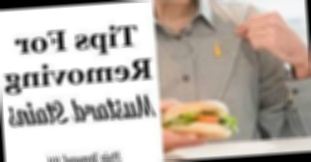mustard: (209, 40, 224, 60)
